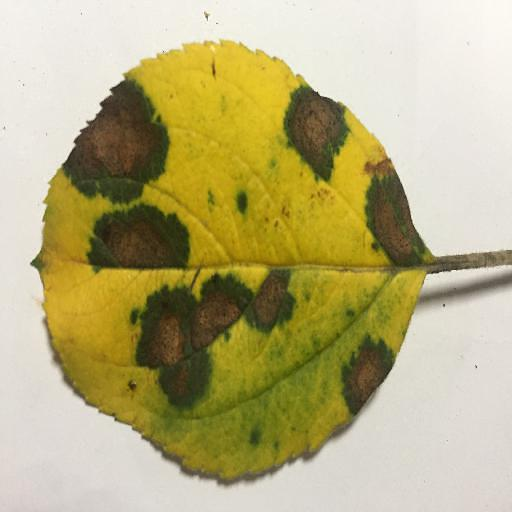Brown_Spot: (136, 285, 242, 409), (59, 97, 169, 203), (88, 207, 184, 268), (364, 172, 425, 263), (278, 93, 344, 174), (345, 344, 392, 411), (245, 274, 292, 323)
